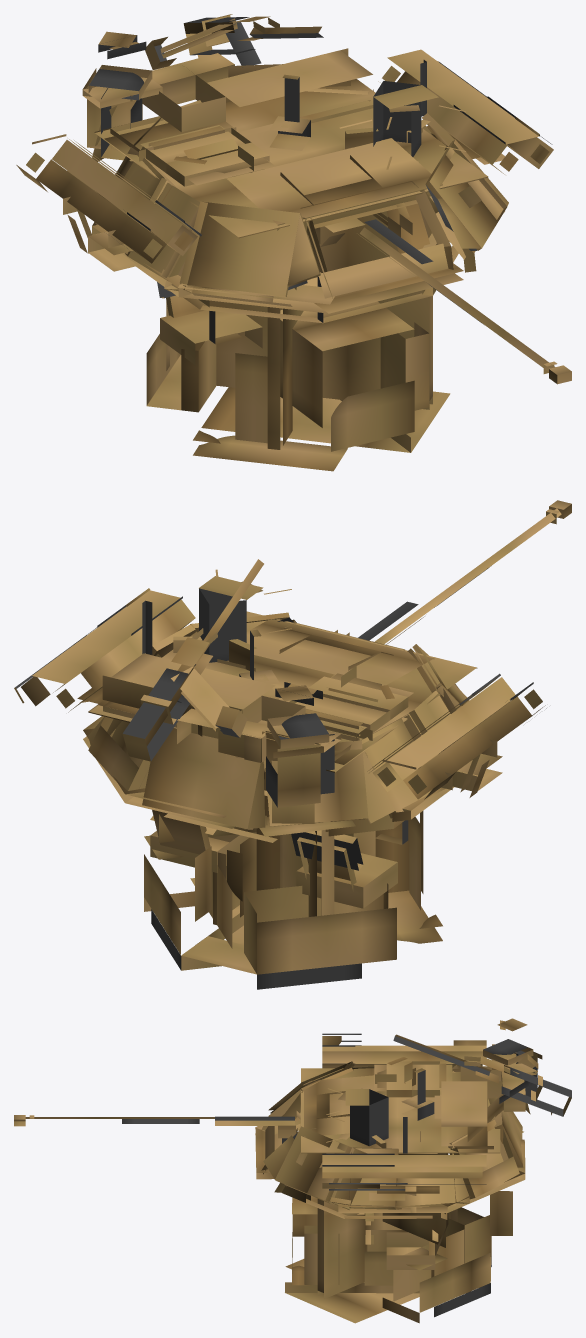
The model's file is bmp2m_turret.obj.
The picture shows the model from 3 angles, top to bottom: view 1: azimuth 30°, elevation 25°; view 2: azimuth 150°, elevation 25°; view 3: azimuth 270°, elevation 25°; orthographic projection. The views are drawn at different scales.
Parts seen in each view (by area): view 1: turret, gun; view 2: turret, gun; view 3: turret, gun.
Boxes of the visible parts, <box> form: turret: <box>16,14,553,471</box>; gun: <box>300,181,571,384</box>; turret: <box>14,559,546,989</box>; gun: <box>284,500,571,655</box>; turret: <box>255,1018,571,1323</box>; gun: <box>14,1093,316,1138</box>.
Bounding box in the file's own units: 3.26 × 2.7 × 5.35.
